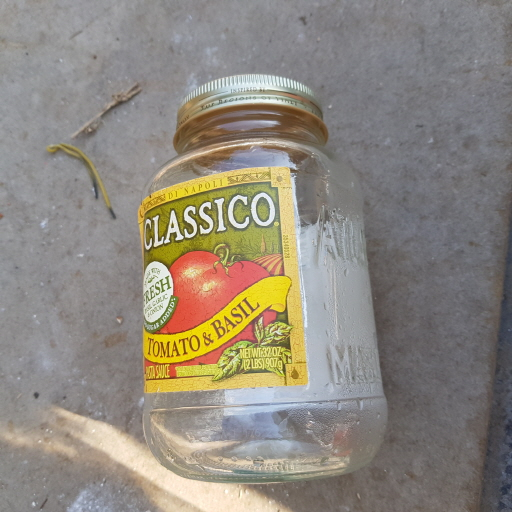Glass_5: (137, 77, 391, 480)
